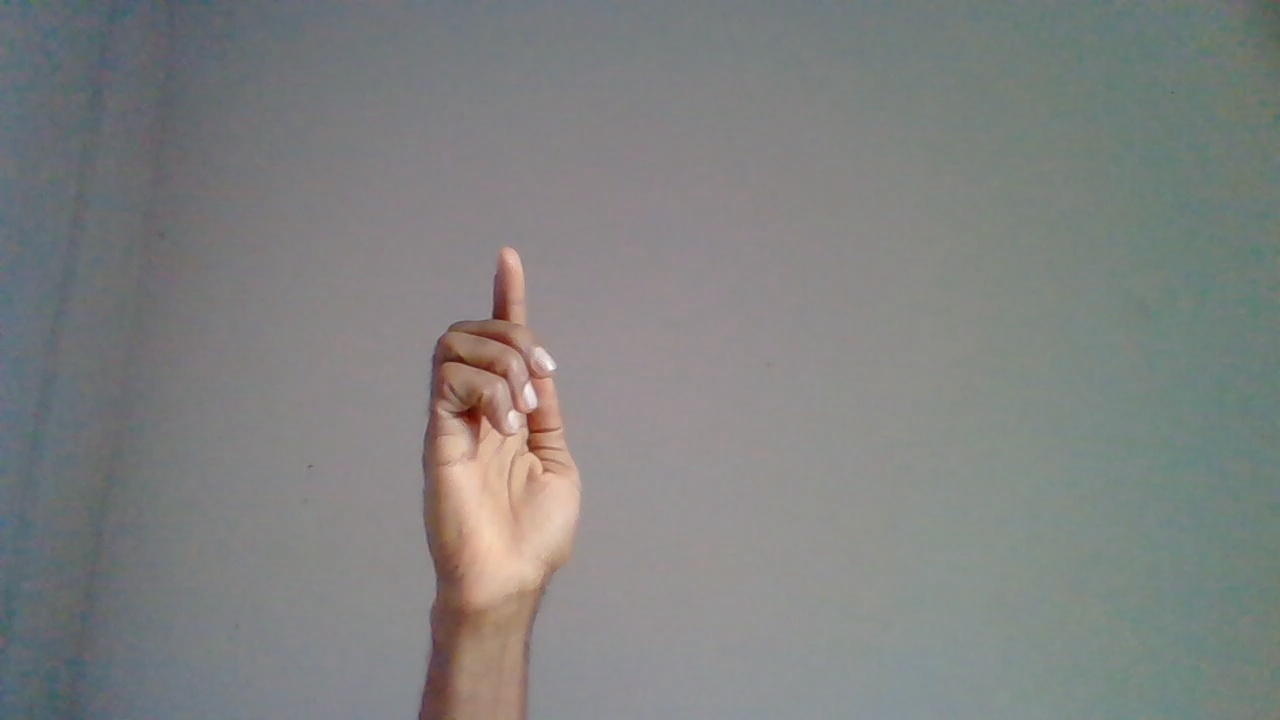qe: (421, 249, 585, 658)
